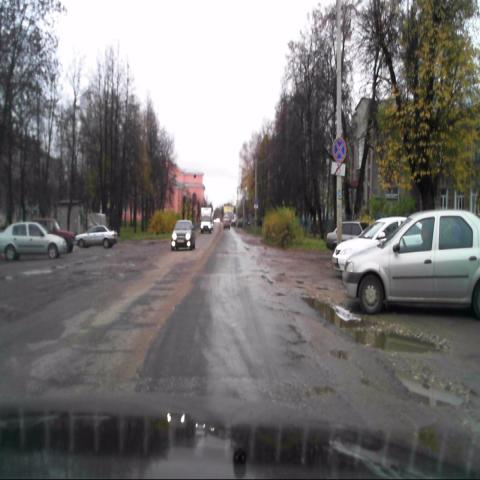3_27: (332, 137, 346, 163)
